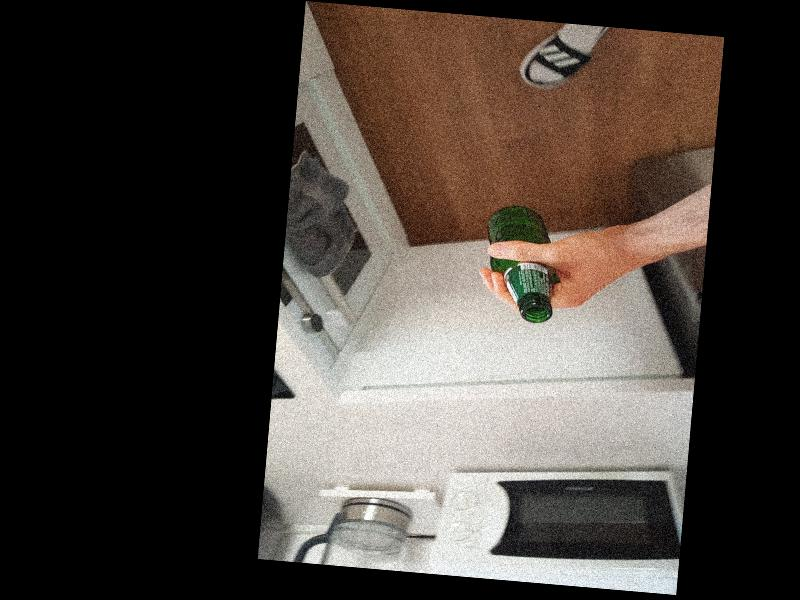Beer: (479, 203, 561, 322)
